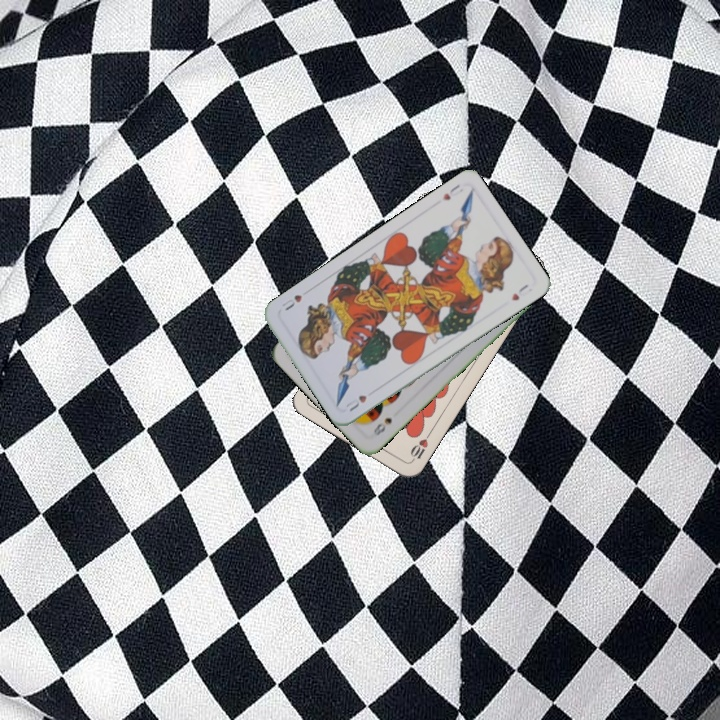H10: (406, 429, 433, 465)
HU: (342, 391, 369, 414), (439, 180, 466, 203)
S8: (369, 413, 394, 438)
